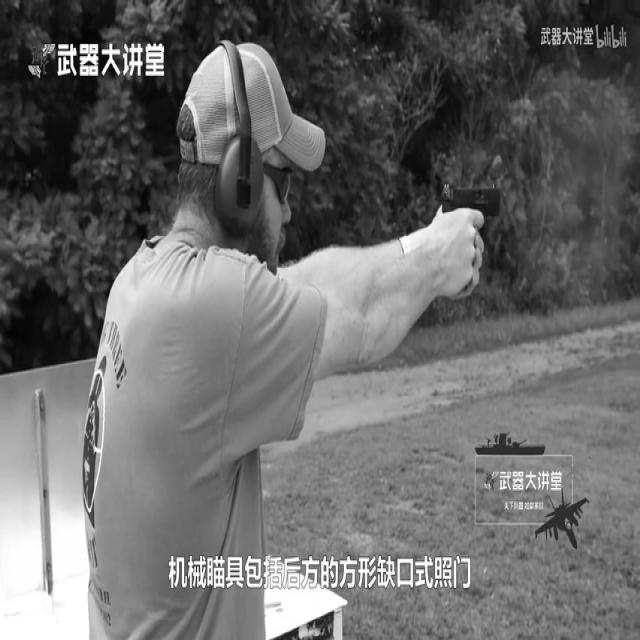Hand-Gun: (418, 48, 545, 381)
